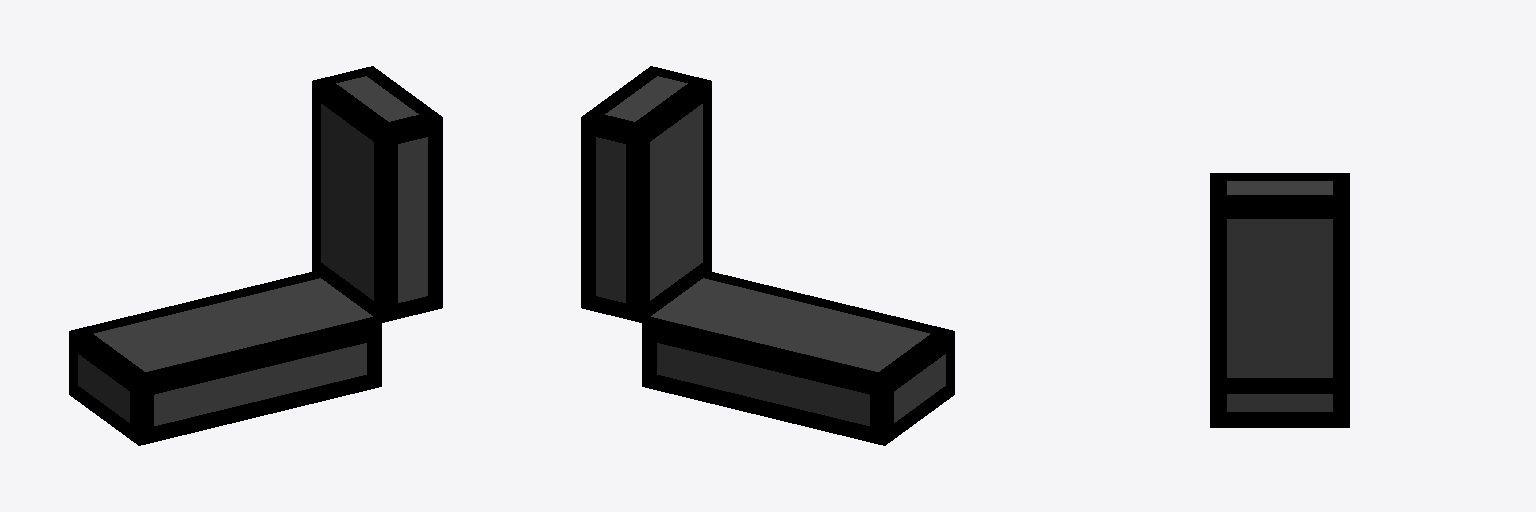
The picture shows the model from 3 angles: view 1: azimuth 30°, elevation 25°; view 2: azimuth 150°, elevation 25°; view 3: azimuth 270°, elevation 25°; orthographic projection.
Parts seen in each view (by area): view 1: object 1; view 2: object 1; view 3: object 1.
Boxes of the visible parts, x1,y1,x2,y2 form: object 1: [69, 66, 442, 445]; object 1: [581, 66, 954, 445]; object 1: [1210, 173, 1349, 427].
Bounding box in the file's own units: 2 × 1.6 × 0.8.
1 materials, 1 textured.